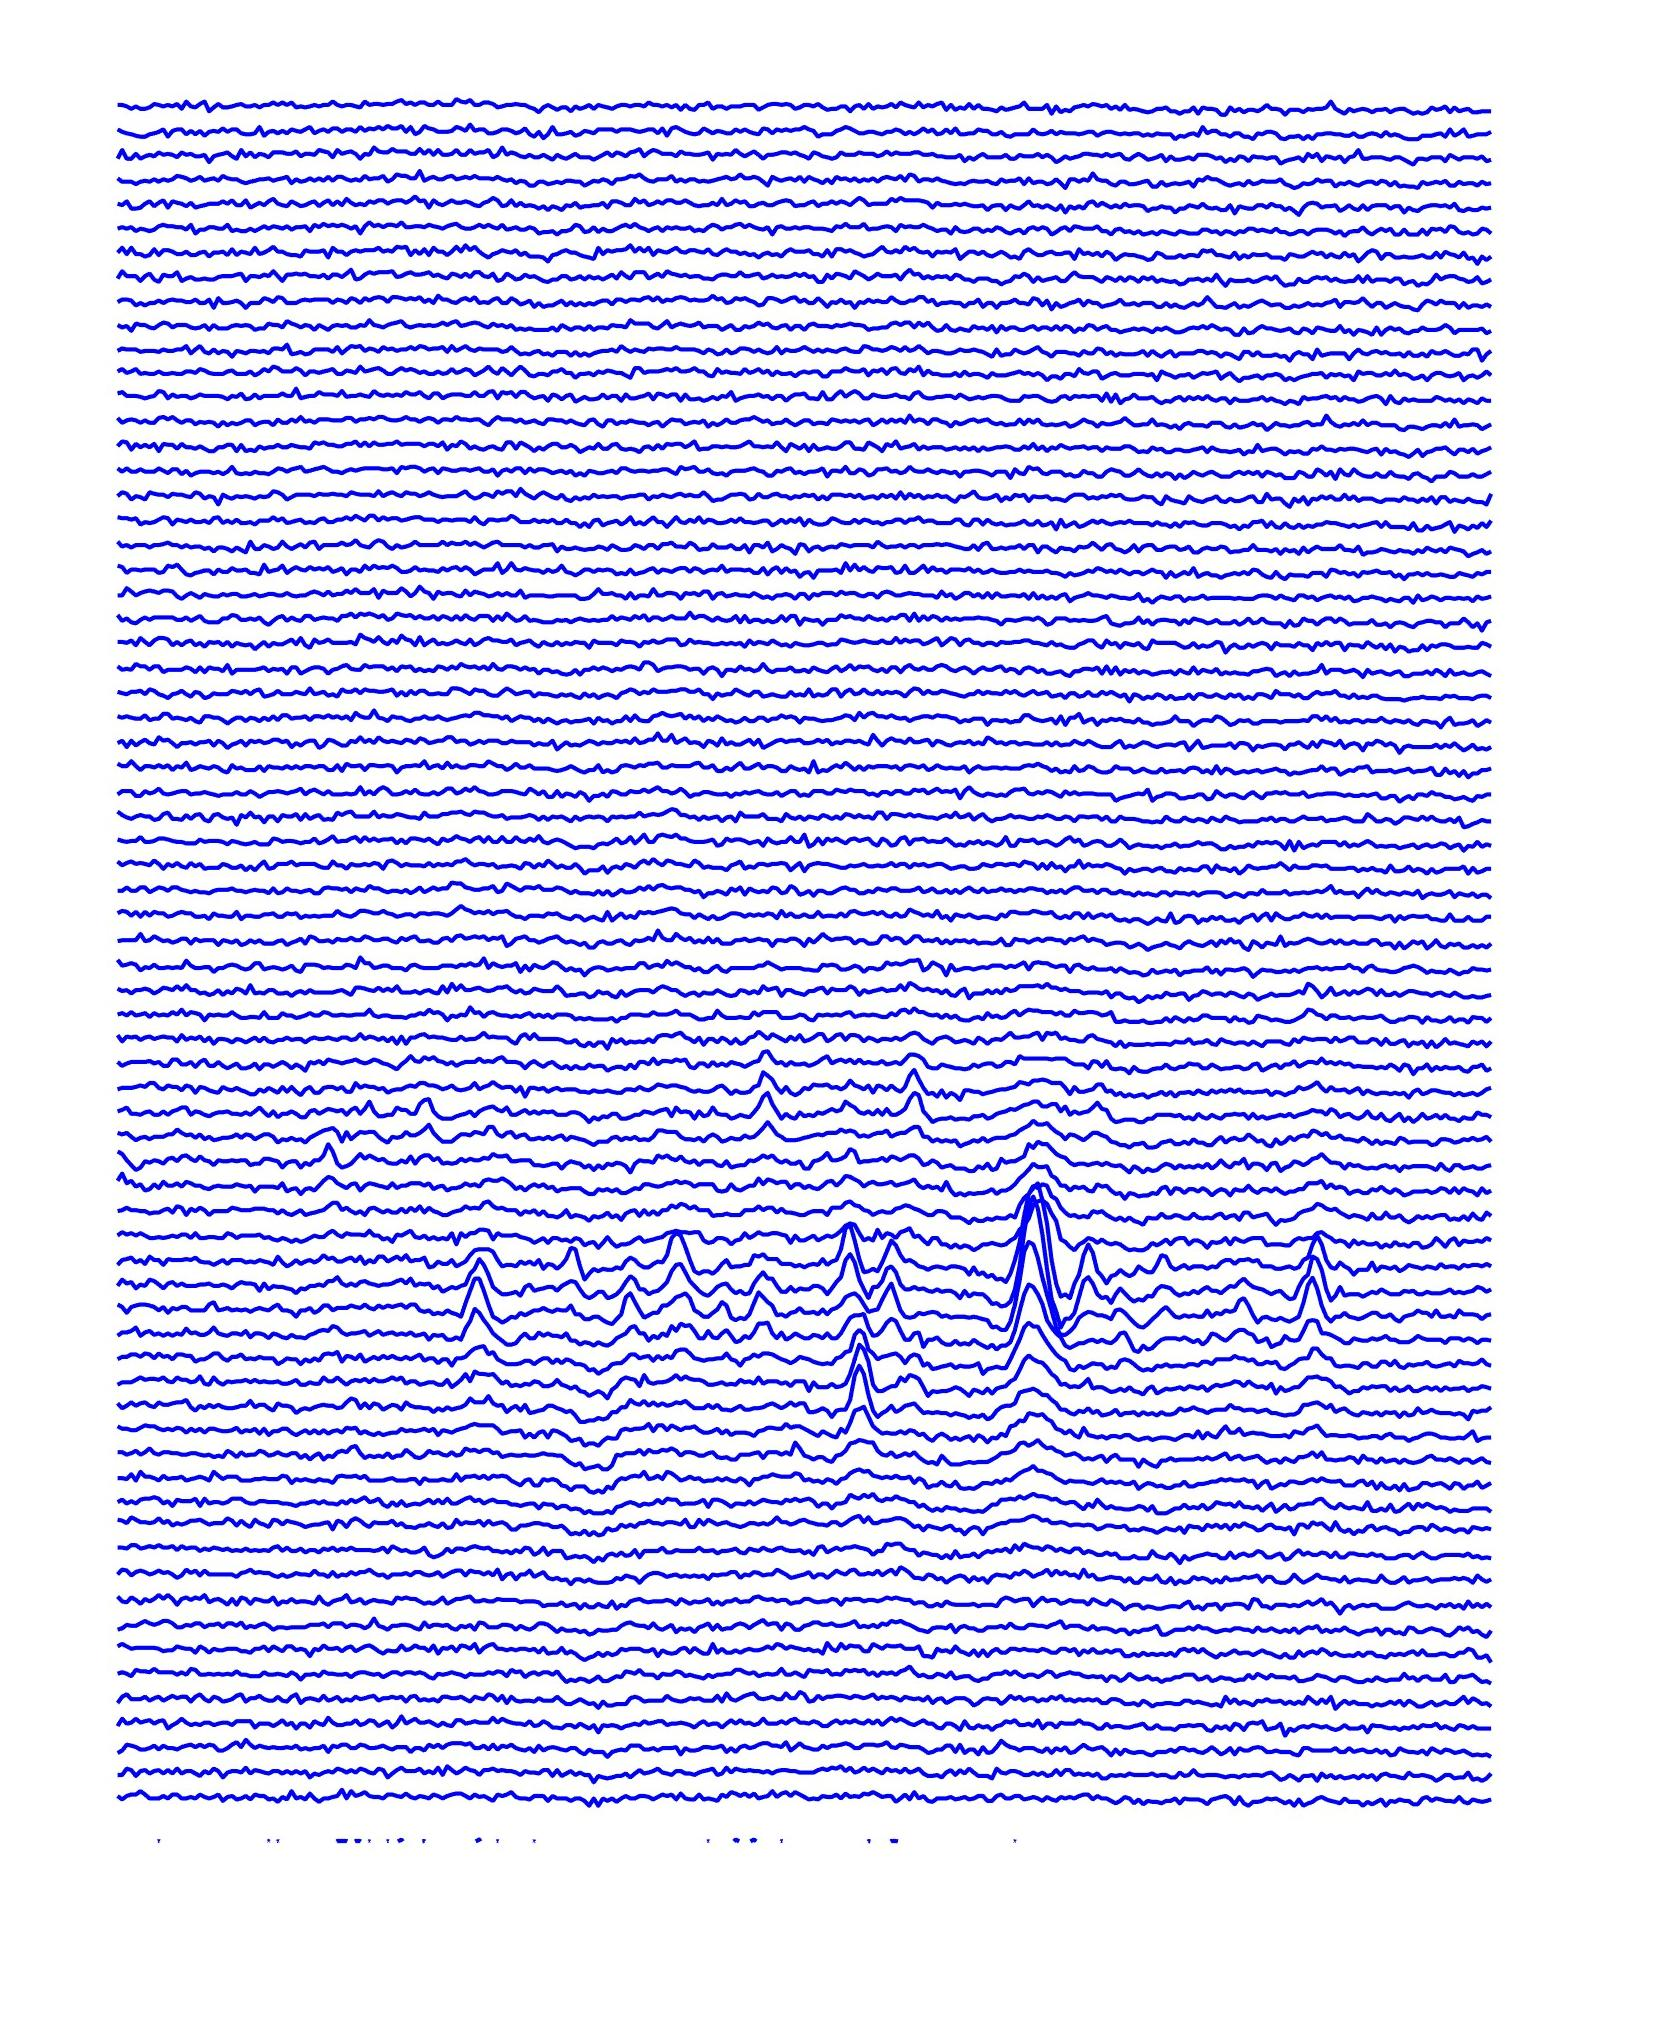defect: (983, 1161, 1147, 1368), (820, 1204, 936, 1440), (551, 1235, 786, 1346), (717, 1039, 802, 1164), (1285, 1218, 1359, 1359), (877, 1034, 955, 1161), (441, 1233, 498, 1358), (392, 1081, 450, 1174)
